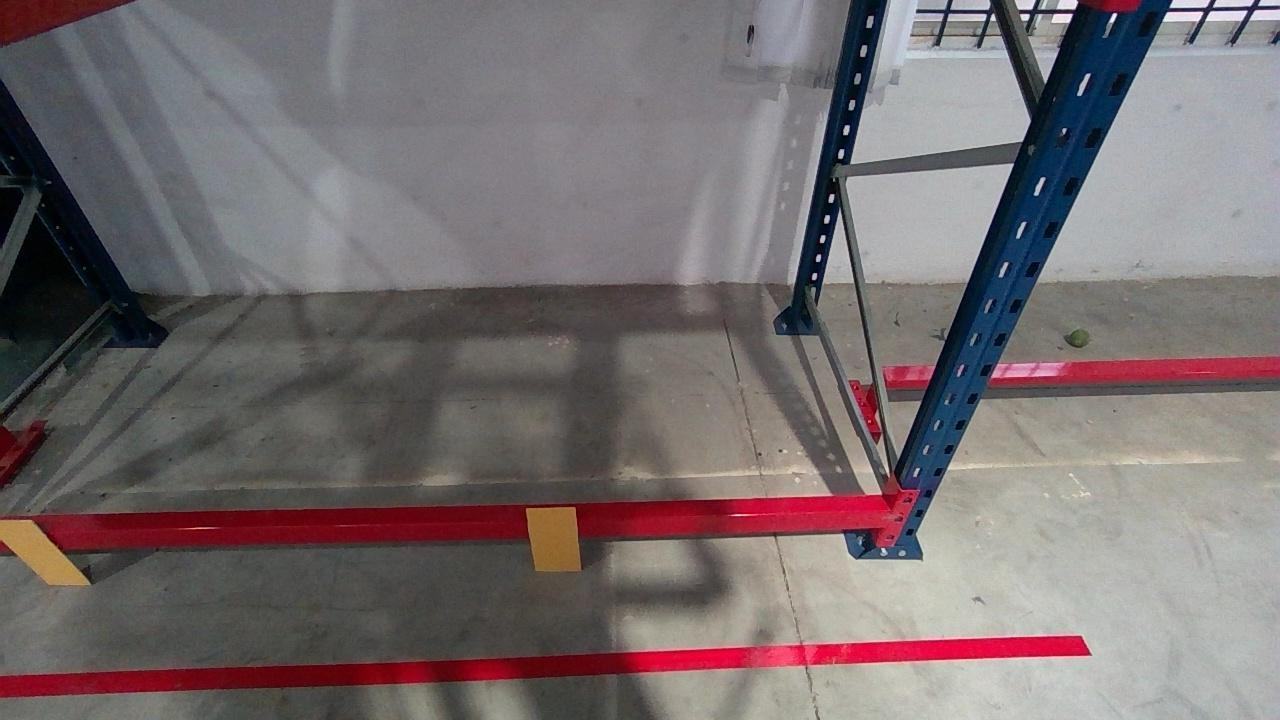h_rack: (0, 502, 895, 540)
orange_strip: (0, 519, 89, 585), (523, 506, 580, 570)
red_line: (0, 632, 1093, 697)
